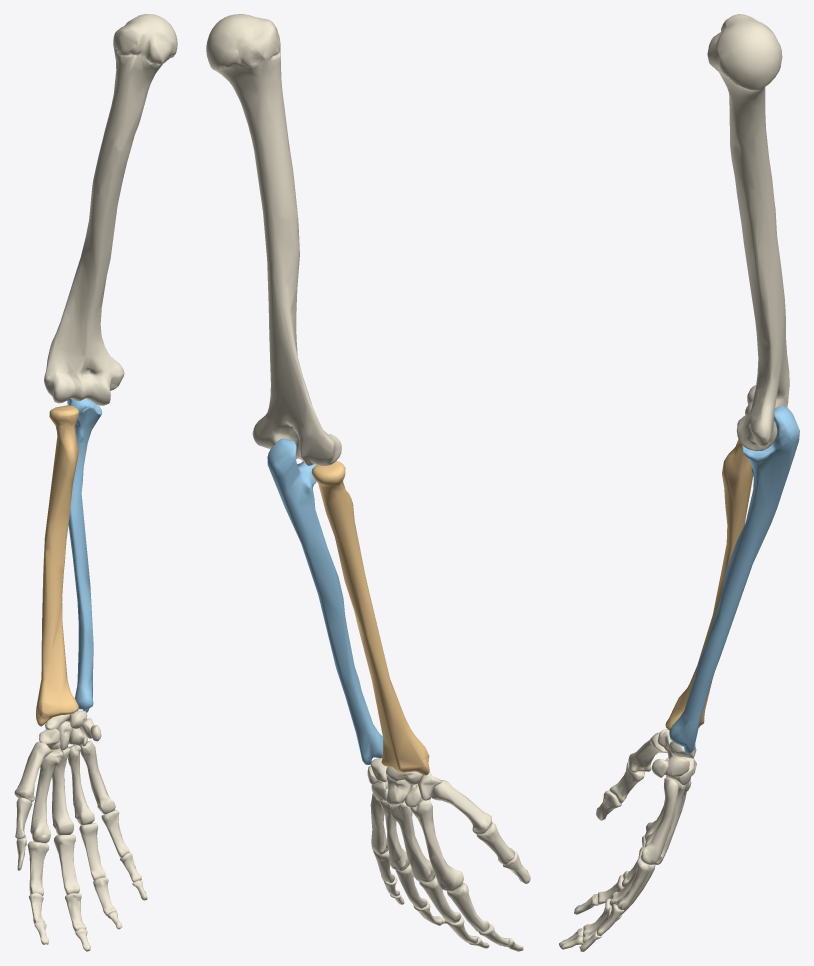
File: elbow-preview.glb
3 views of the same model, side by side, from view 1: azimuth 30°, elevation 25°; view 2: azimuth 150°, elevation 25°; view 3: azimuth 270°, elevation 25° (orthographic). The views are drawn at different scales.
Parts seen in each view (by area): view 1: Humerus.r-preview, Radius.r-preview, Ulna.r-preview, Second metacarpal bone.r-preview, Third metacarpal bone.l-preview, Fifth metacarpal bone.r-preview, Fourth metacarpal bone-preview, First metacarpal bone-preview, Proximal phalanx of third finger of hand-preview, Proximal phalanx of second finger of hand-preview, Proximal phalanx of fourth finger of hand-preview, Proximal phalanx of fifth finger of hand-preview (+3 smaller); view 2: Humerus.r-preview, Ulna.r-preview, Radius.r-preview, Second metacarpal bone.r-preview, Third metacarpal bone.l-preview, First metacarpal bone-preview, Fourth metacarpal bone-preview, Proximal phalanx of second finger of hand-preview, Fifth metacarpal bone.r-preview, Proximal phalanx of third finger of hand-preview, Proximal phalanx of first finger of hand-preview; view 3: Humerus.r-preview, Ulna.r-preview, Radius.r-preview, Fifth metacarpal bone.r-preview, First metacarpal bone-preview, Proximal phalanx of first finger of hand-preview, Proximal phalanx of fifth finger of hand-preview.
Boxes of the visible parts, left/top/right/bottom form: Humerus.r-preview: left=44, top=14, right=177, bottom=405; Radius.r-preview: left=36, top=405, right=79, bottom=726; Ulna.r-preview: left=67, top=398, right=102, bottom=712; Second metacarpal bone.r-preview: left=30, top=749, right=62, bottom=843; Third metacarpal bone.l-preview: left=52, top=747, right=73, bottom=835; Fifth metacarpal bone.r-preview: left=80, top=740, right=115, bottom=814; Fourth metacarpal bone-preview: left=67, top=745, right=94, bottom=825; First metacarpal bone-preview: left=14, top=741, right=52, bottom=801; Proximal phalanx of third finger of hand-preview: left=54, top=834, right=79, bottom=894; Proximal phalanx of second finger of hand-preview: left=27, top=841, right=49, bottom=895; Proximal phalanx of fourth finger of hand-preview: left=79, top=823, right=105, bottom=880; Proximal phalanx of fifth finger of hand-preview: left=101, top=809, right=129, bottom=857; Humerus.r-preview: left=206, top=14, right=341, bottom=465; Ulna.r-preview: left=267, top=438, right=383, bottom=764; Radius.r-preview: left=311, top=461, right=429, bottom=775; Second metacarpal bone.r-preview: left=410, top=799, right=463, bottom=891; Third metacarpal bone.l-preview: left=390, top=801, right=435, bottom=882; First metacarpal bone-preview: left=431, top=780, right=491, bottom=833; Fourth metacarpal bone-preview: left=380, top=800, right=409, bottom=870; Proximal phalanx of second finger of hand-preview: left=447, top=883, right=489, bottom=931; Fifth metacarpal bone.r-preview: left=370, top=793, right=388, bottom=854; Proximal phalanx of third finger of hand-preview: left=419, top=876, right=461, bottom=923; Proximal phalanx of first finger of hand-preview: left=476, top=822, right=514, bottom=865; Humerus.r-preview: left=707, top=14, right=789, bottom=451; Ulna.r-preview: left=669, top=406, right=799, bottom=754; Radius.r-preview: left=665, top=418, right=753, bottom=730; Fifth metacarpal bone.r-preview: left=641, top=777, right=680, bottom=864; First metacarpal bone-preview: left=628, top=732, right=667, bottom=772; Proximal phalanx of first finger of hand-preview: left=609, top=762, right=644, bottom=803; Proximal phalanx of fifth finger of hand-preview: left=616, top=858, right=650, bottom=909.
Bounding box in the file's own units: 0.1917 × 0.7057 × 0.1534.
